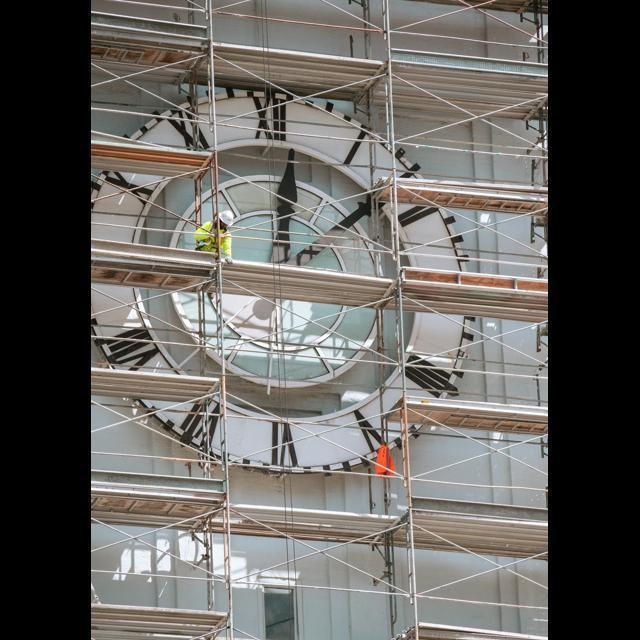helmet: (206, 196, 238, 232)
safety_vest: (190, 216, 234, 266)
